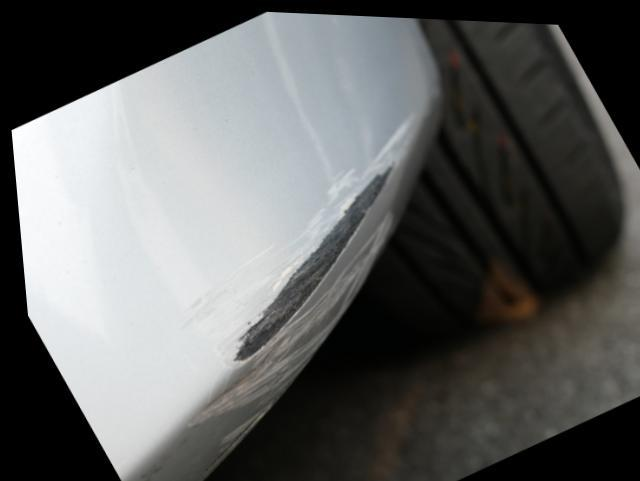scratch: (179, 94, 431, 444)
